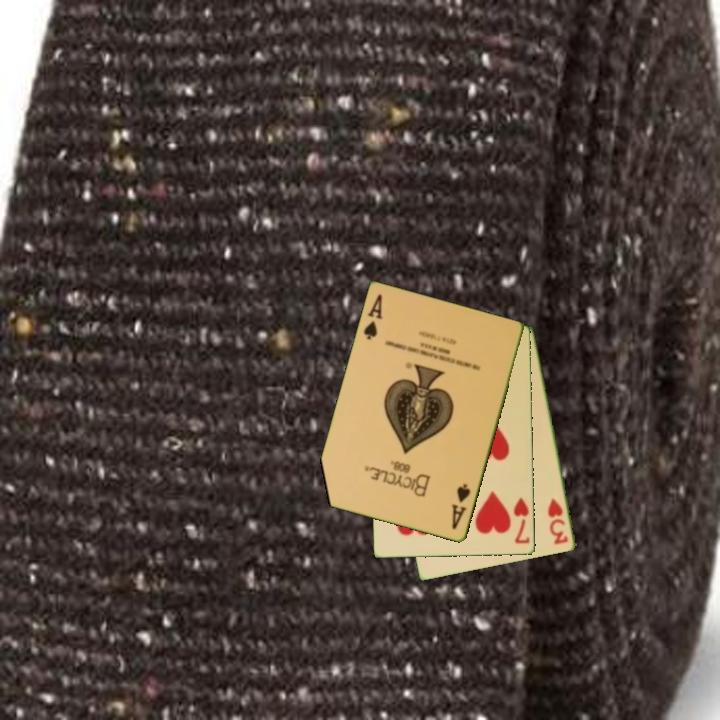3h: (544, 495, 571, 548)
7h: (510, 494, 533, 547)
As: (448, 481, 474, 533), (360, 291, 385, 343)
